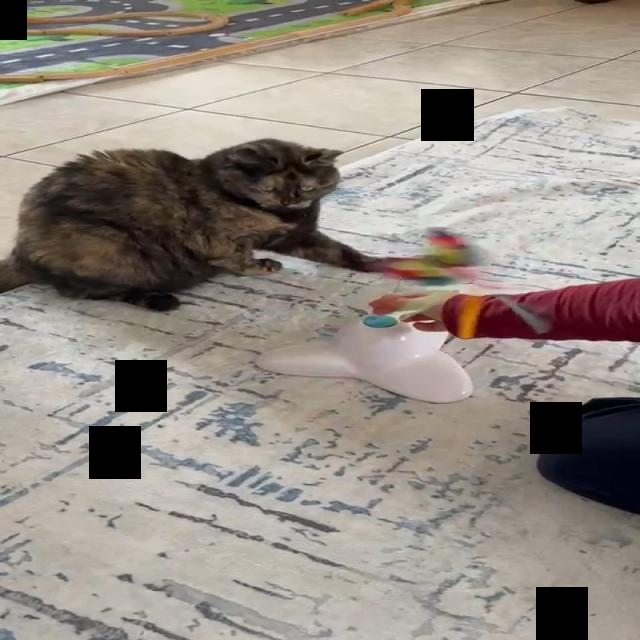authorized: (0, 136, 384, 312)
